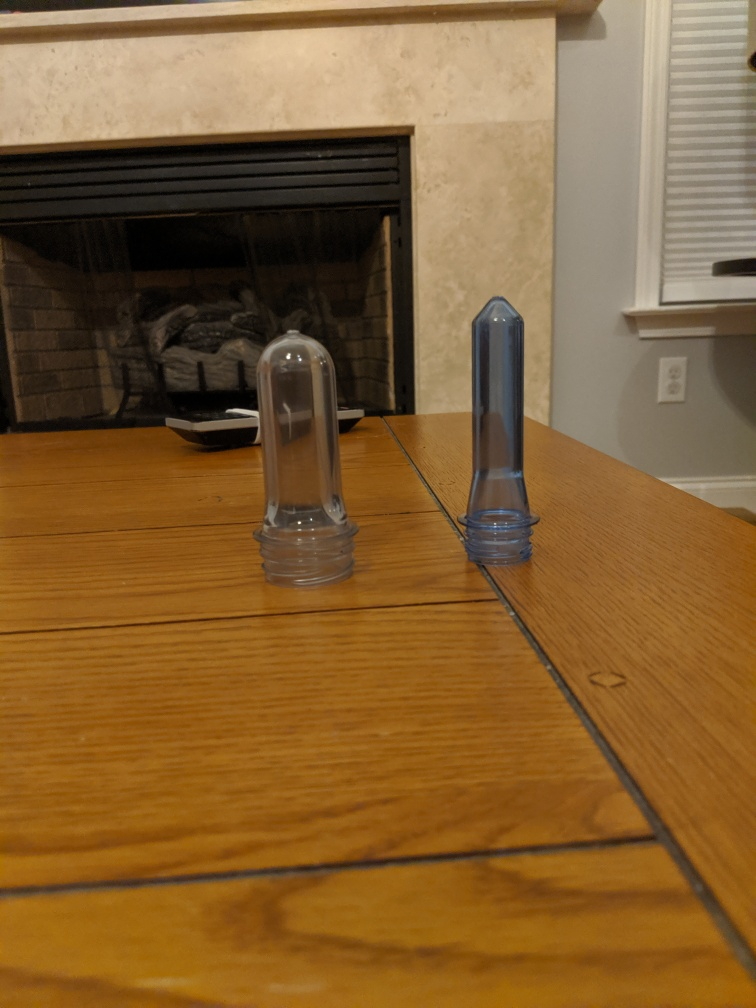preform: (243, 322, 371, 593), (446, 286, 550, 577)
